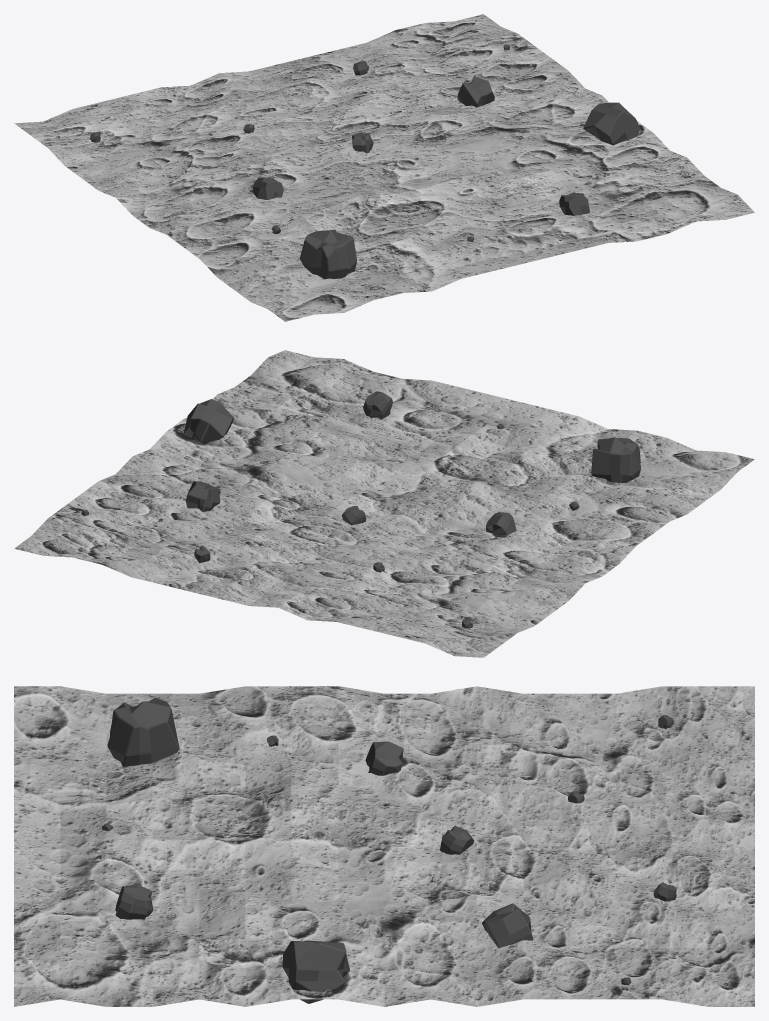
File: MOON 2.glb
3 renders of one model, top to bottom at view 1: azimuth 30°, elevation 25°; view 2: azimuth 150°, elevation 25°; view 3: azimuth 270°, elevation 25°, orthographic. The views are drawn at different scales.
Parts seen in each view (by area): view 1: Plane, Cube.003, Cube.008, Cube.001, Cube.002, Cube; view 2: Plane, Cube.003, Cube.008, Cube.001, Cube.002, Cube; view 3: Plane, Cube.003, Cube.008, Cube.001, Cube.002, Cube, Cube.004.
Part boxes in pixels (x1,y1,x2,y2): Plane: (14,14,754,321); Cube.003: (299,229,356,279); Cube.008: (583,102,639,145); Cube.001: (457,76,494,107); Cube.002: (559,192,589,215); Cube: (253,177,283,199); Plane: (14,350,754,657); Cube.003: (591,437,640,482); Cube.008: (183,399,233,444); Cube.001: (185,481,220,511); Cube.002: (363,391,392,419); Cube: (486,512,516,535); Plane: (14,686,754,1006); Cube.003: (107,697,179,766); Cube.008: (282,940,349,1003); Cube.001: (482,903,533,947); Cube.002: (115,884,153,919); Cube: (365,741,403,775); Cube.004: (440,825,474,854).
Size of the model in its own units: 13.42 by 1.34 by 13.42.
2 materials, 1 textured.
